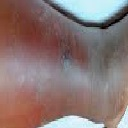Cellulitis: (52, 36, 78, 72)
